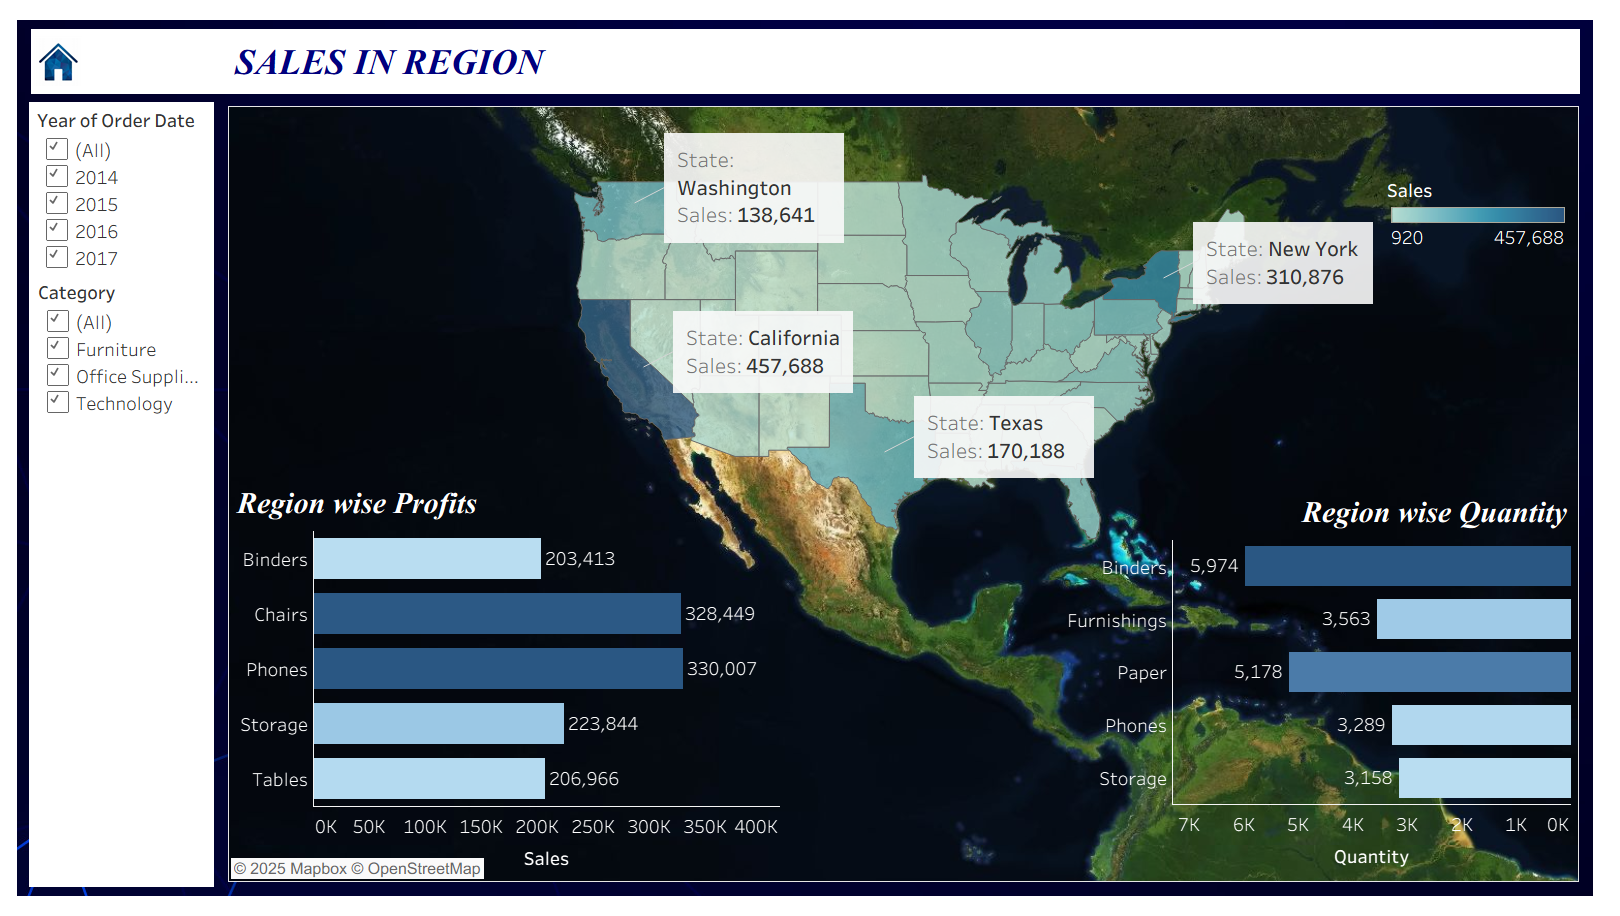

The dashboard page shown, as its layout file describes it:
{"tool":"tableau","page":{"name":"Sales in Region","canvas":[1600,900],"ordinal":2},"visuals":[{"type":"image","param":"C:/Users/vshivani/Desktop/shivani/Tableau/6. superstore sales dataset/images/901","box":[8,8,1584,884]},{"type":"text","box":[22,17,1557,73]},{"type":"dashboard-object","box":[29,28,49,51]},{"type":"worksheet","title":"Sales in City","mark":"Multipolygon","box":[219,94,1359,784]},{"type":"filter","title":"Sales in City","param":"[federated.0843jlg0slxx4w1dko3b10s51acw].[yr:Order Date:ok]","box":[32,99,168,175]},{"type":"legend","title":"Sales in City","param":"[federated.0843jlg0slxx4w1dko3b10s51acw].[sum:Sales:qk]","box":[1382,169,182,100]},{"type":"filter","title":"Sales in City","param":"[federated.0843jlg0slxx4w1dko3b10s51acw].[none:Category:nk]","box":[33,271,168,148]},{"type":"worksheet","title":"Region wise Profits","mark":"Automatic","rows":["Sub-Category"],"cols":["Sales"],"box":[228,474,547,395]},{"type":"worksheet","title":"Region wise Quantity","mark":"Automatic","rows":["Sub-Category"],"cols":["Quantity"],"box":[1047,483,519,384]}]}

Visuals, with their boxes in screenshot pixels (x1, y1, x2, y2), scaled from the page's 1600x900 canvas onto the 1620x916 screenshot:
image: l=8, t=8, r=1612, b=908
text: l=22, t=17, r=1599, b=92
dashboard-object: l=29, t=28, r=79, b=80
"Sales in City" worksheet (Multipolygon marks): l=222, t=96, r=1598, b=894
"Sales in City" filter: l=32, t=101, r=202, b=279
"Sales in City" legend: l=1399, t=172, r=1584, b=274
"Sales in City" filter: l=33, t=276, r=204, b=426
"Region wise Profits" worksheet: l=231, t=482, r=785, b=884
"Region wise Quantity" worksheet: l=1060, t=492, r=1586, b=882
